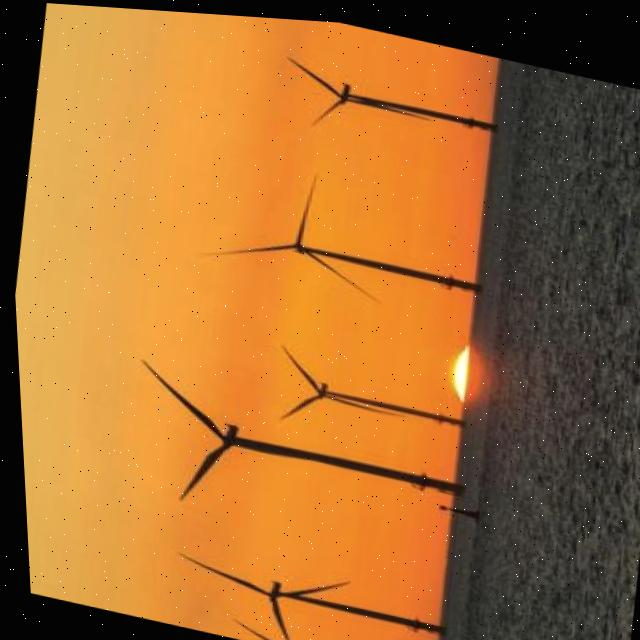solid-blade: (138, 358, 220, 438), (173, 551, 261, 592), (176, 444, 220, 496), (203, 239, 292, 251)
